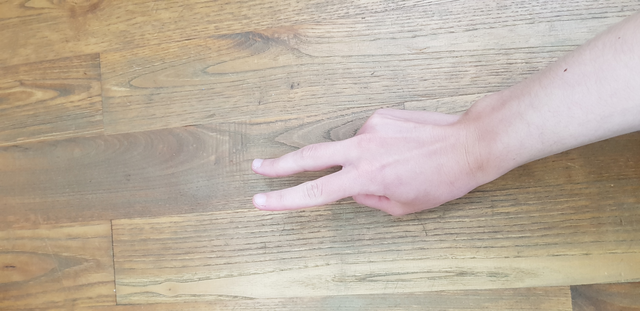Scissors: (247, 99, 507, 226)
